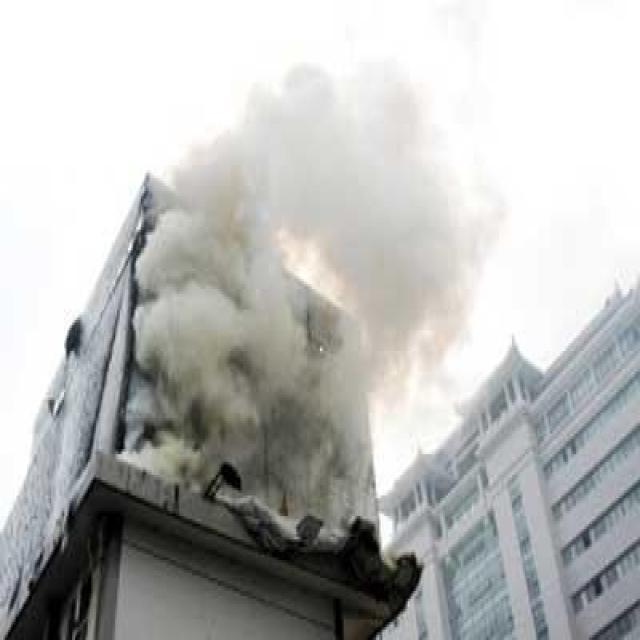Smoke: (117, 57, 506, 542)
